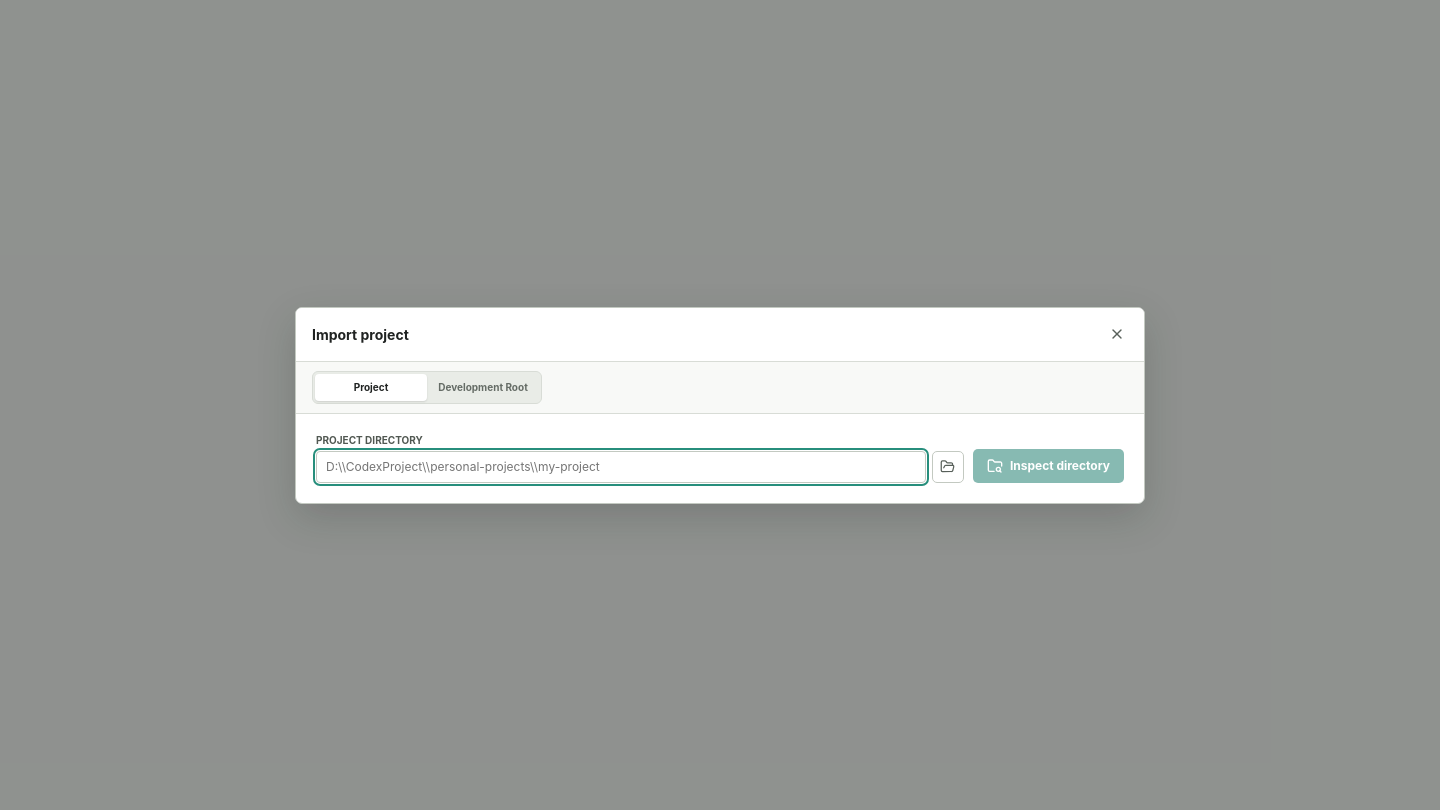
it: ProjectModal safe discovery imports › requires manual review when a single project has no service scripts
Type "D:\\projects\\maintenance" into the field labelled "Project directory". click: x=621, y=466
box: [316,450,926,482]
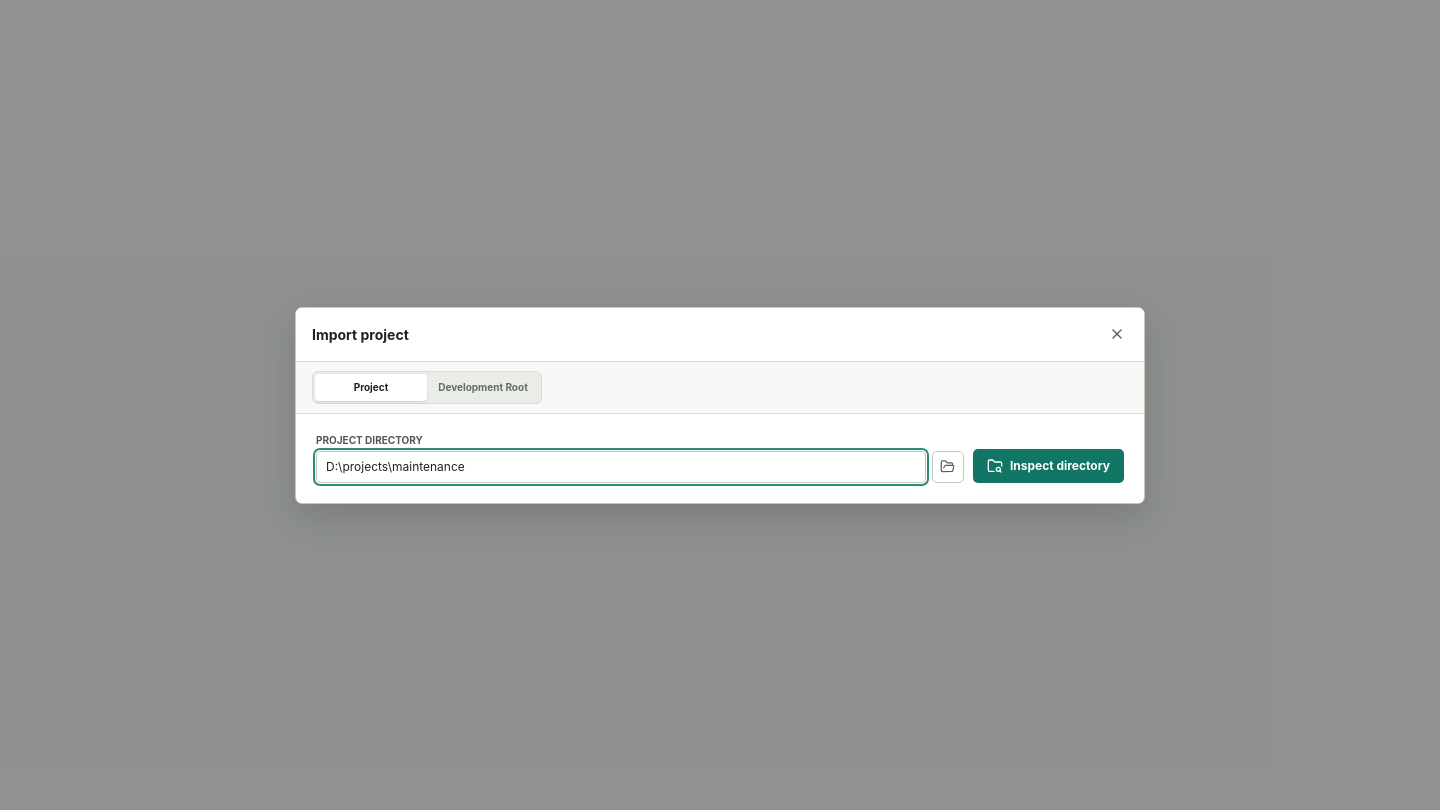
Click the button "Inspect directory". click: x=1048, y=466
box: [973,448,1124,482]
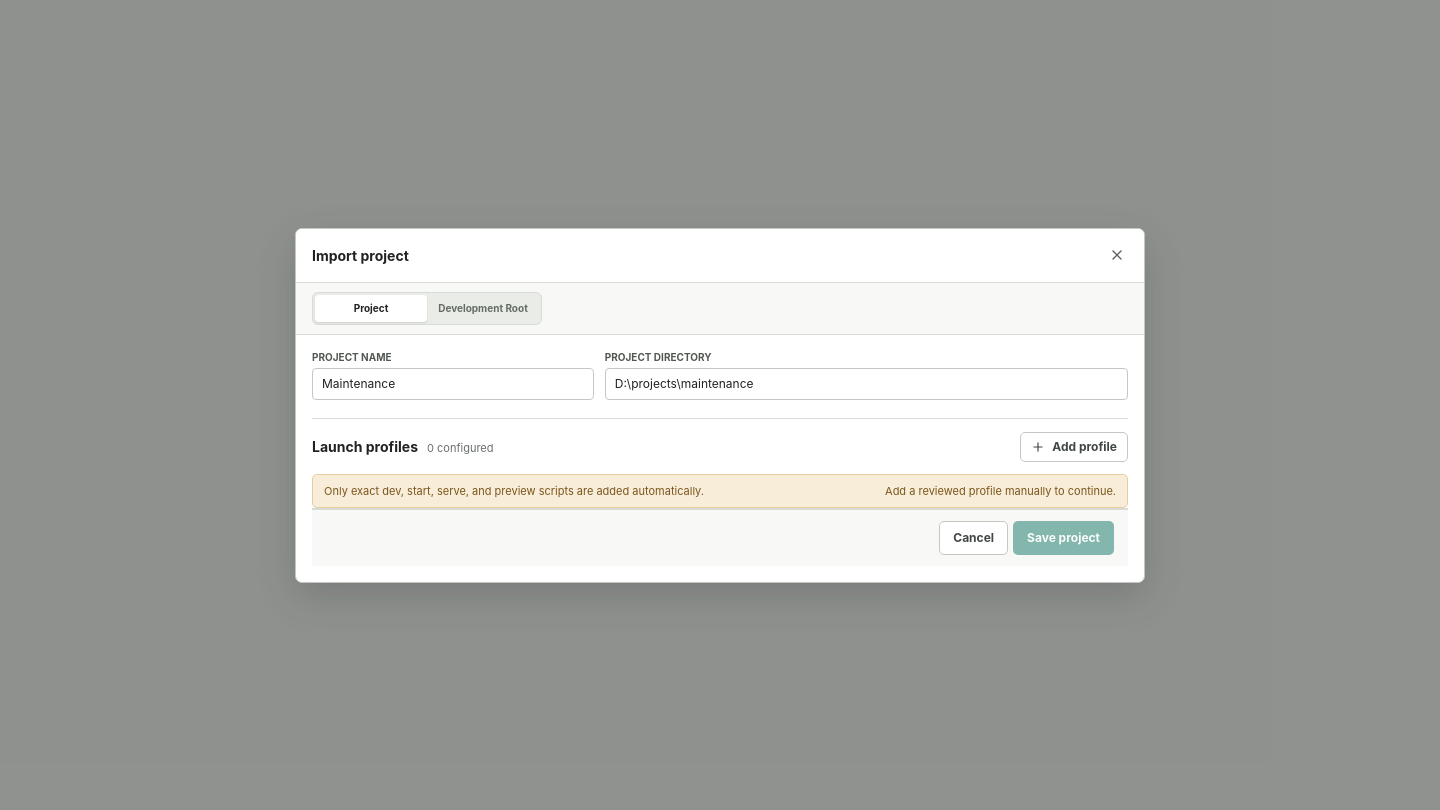
expect the field showing "Maintenance" is shown: met, box [312,368,594,400]
expect the text "Only exact dev, start, serve, and preview scripts" is shown: met, box [324,484,704,498]
expect the text "Add a reviewed profile manually to continue." is shown: met, box [885,484,1116,498]
